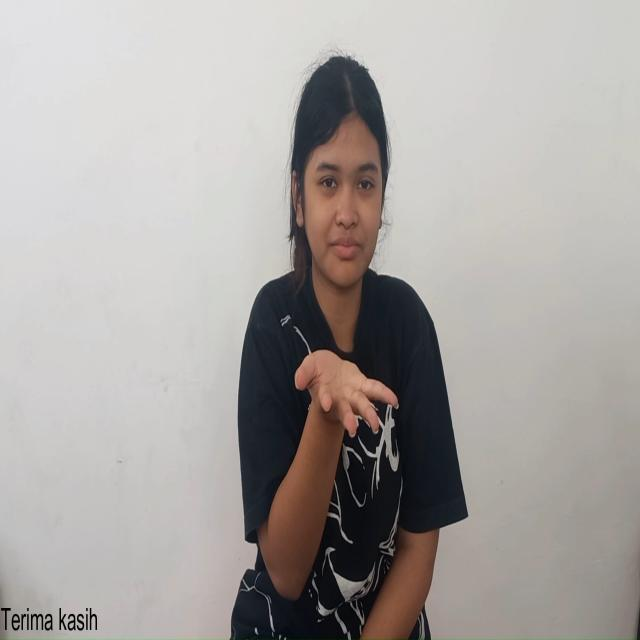Terima kasih -BISINDO-: (242, 347, 400, 603)
